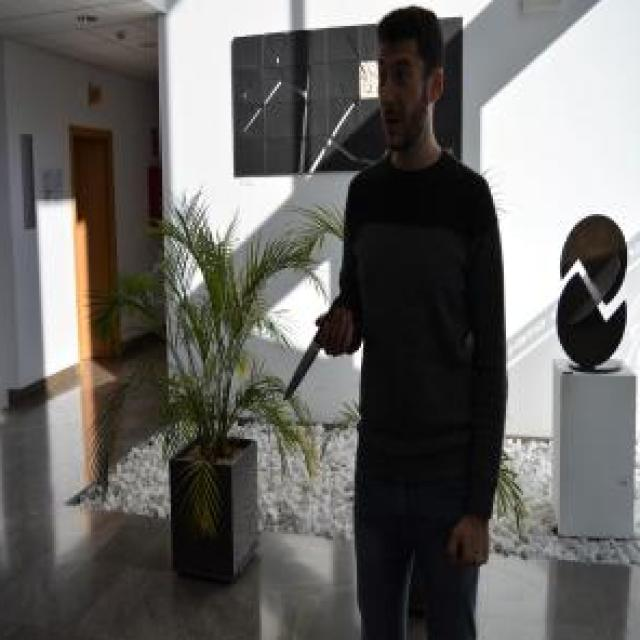knife: (282, 294, 344, 404)
